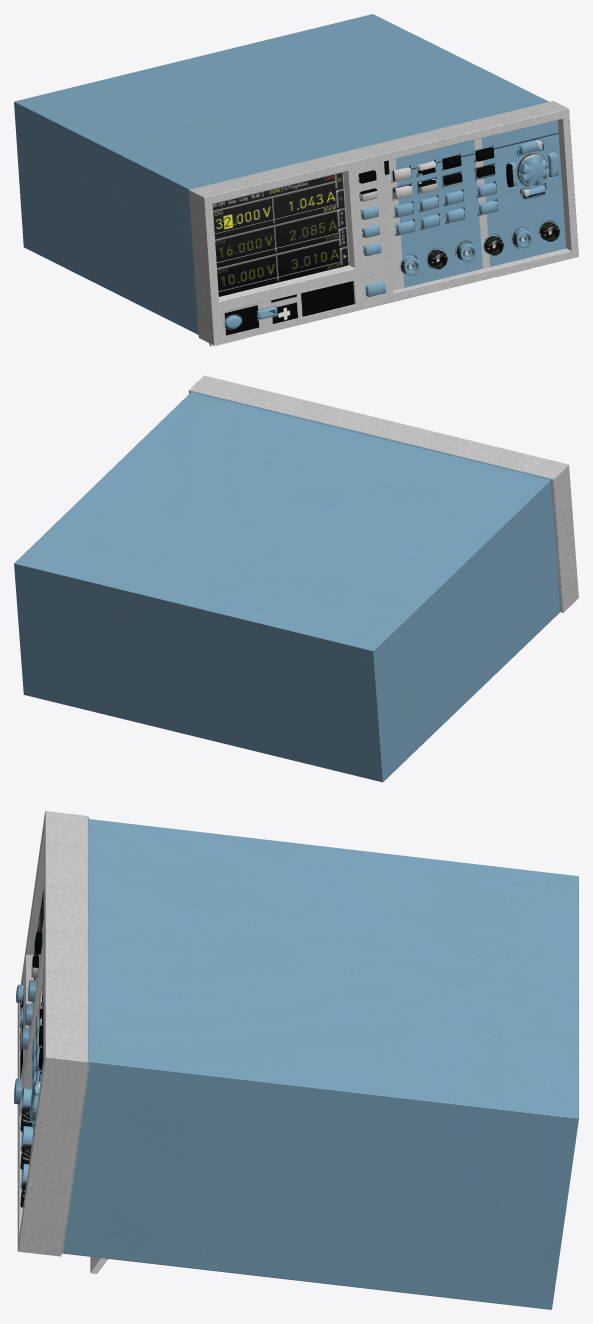
File: power supply device.fbx
3 renders of one model, top to bottom at view 1: azimuth 30°, elevation 25°; view 2: azimuth 150°, elevation 25°; view 3: azimuth 270°, elevation 25°, orthographic. The views are drawn at different scales.
Parts seen in each view (by area): view 1: Cube.038, Cube.035, Cube.041; view 2: Cube.038; view 3: Cube.038, Cube.041.
Boxes of the visible parts, <box> form: Cube.038: <box>14,14,578,346</box>; Cube.035: <box>221,120,566,335</box>; Cube.041: <box>224,140,559,328</box>; Cube.038: <box>14,375,578,782</box>; Cube.038: <box>17,811,578,1309</box>; Cube.041: <box>14,932,43,1207</box>.
Bounding box in the file's own units: 34.73 × 35.82 × 17.32.
9 materials, 8 textured.
